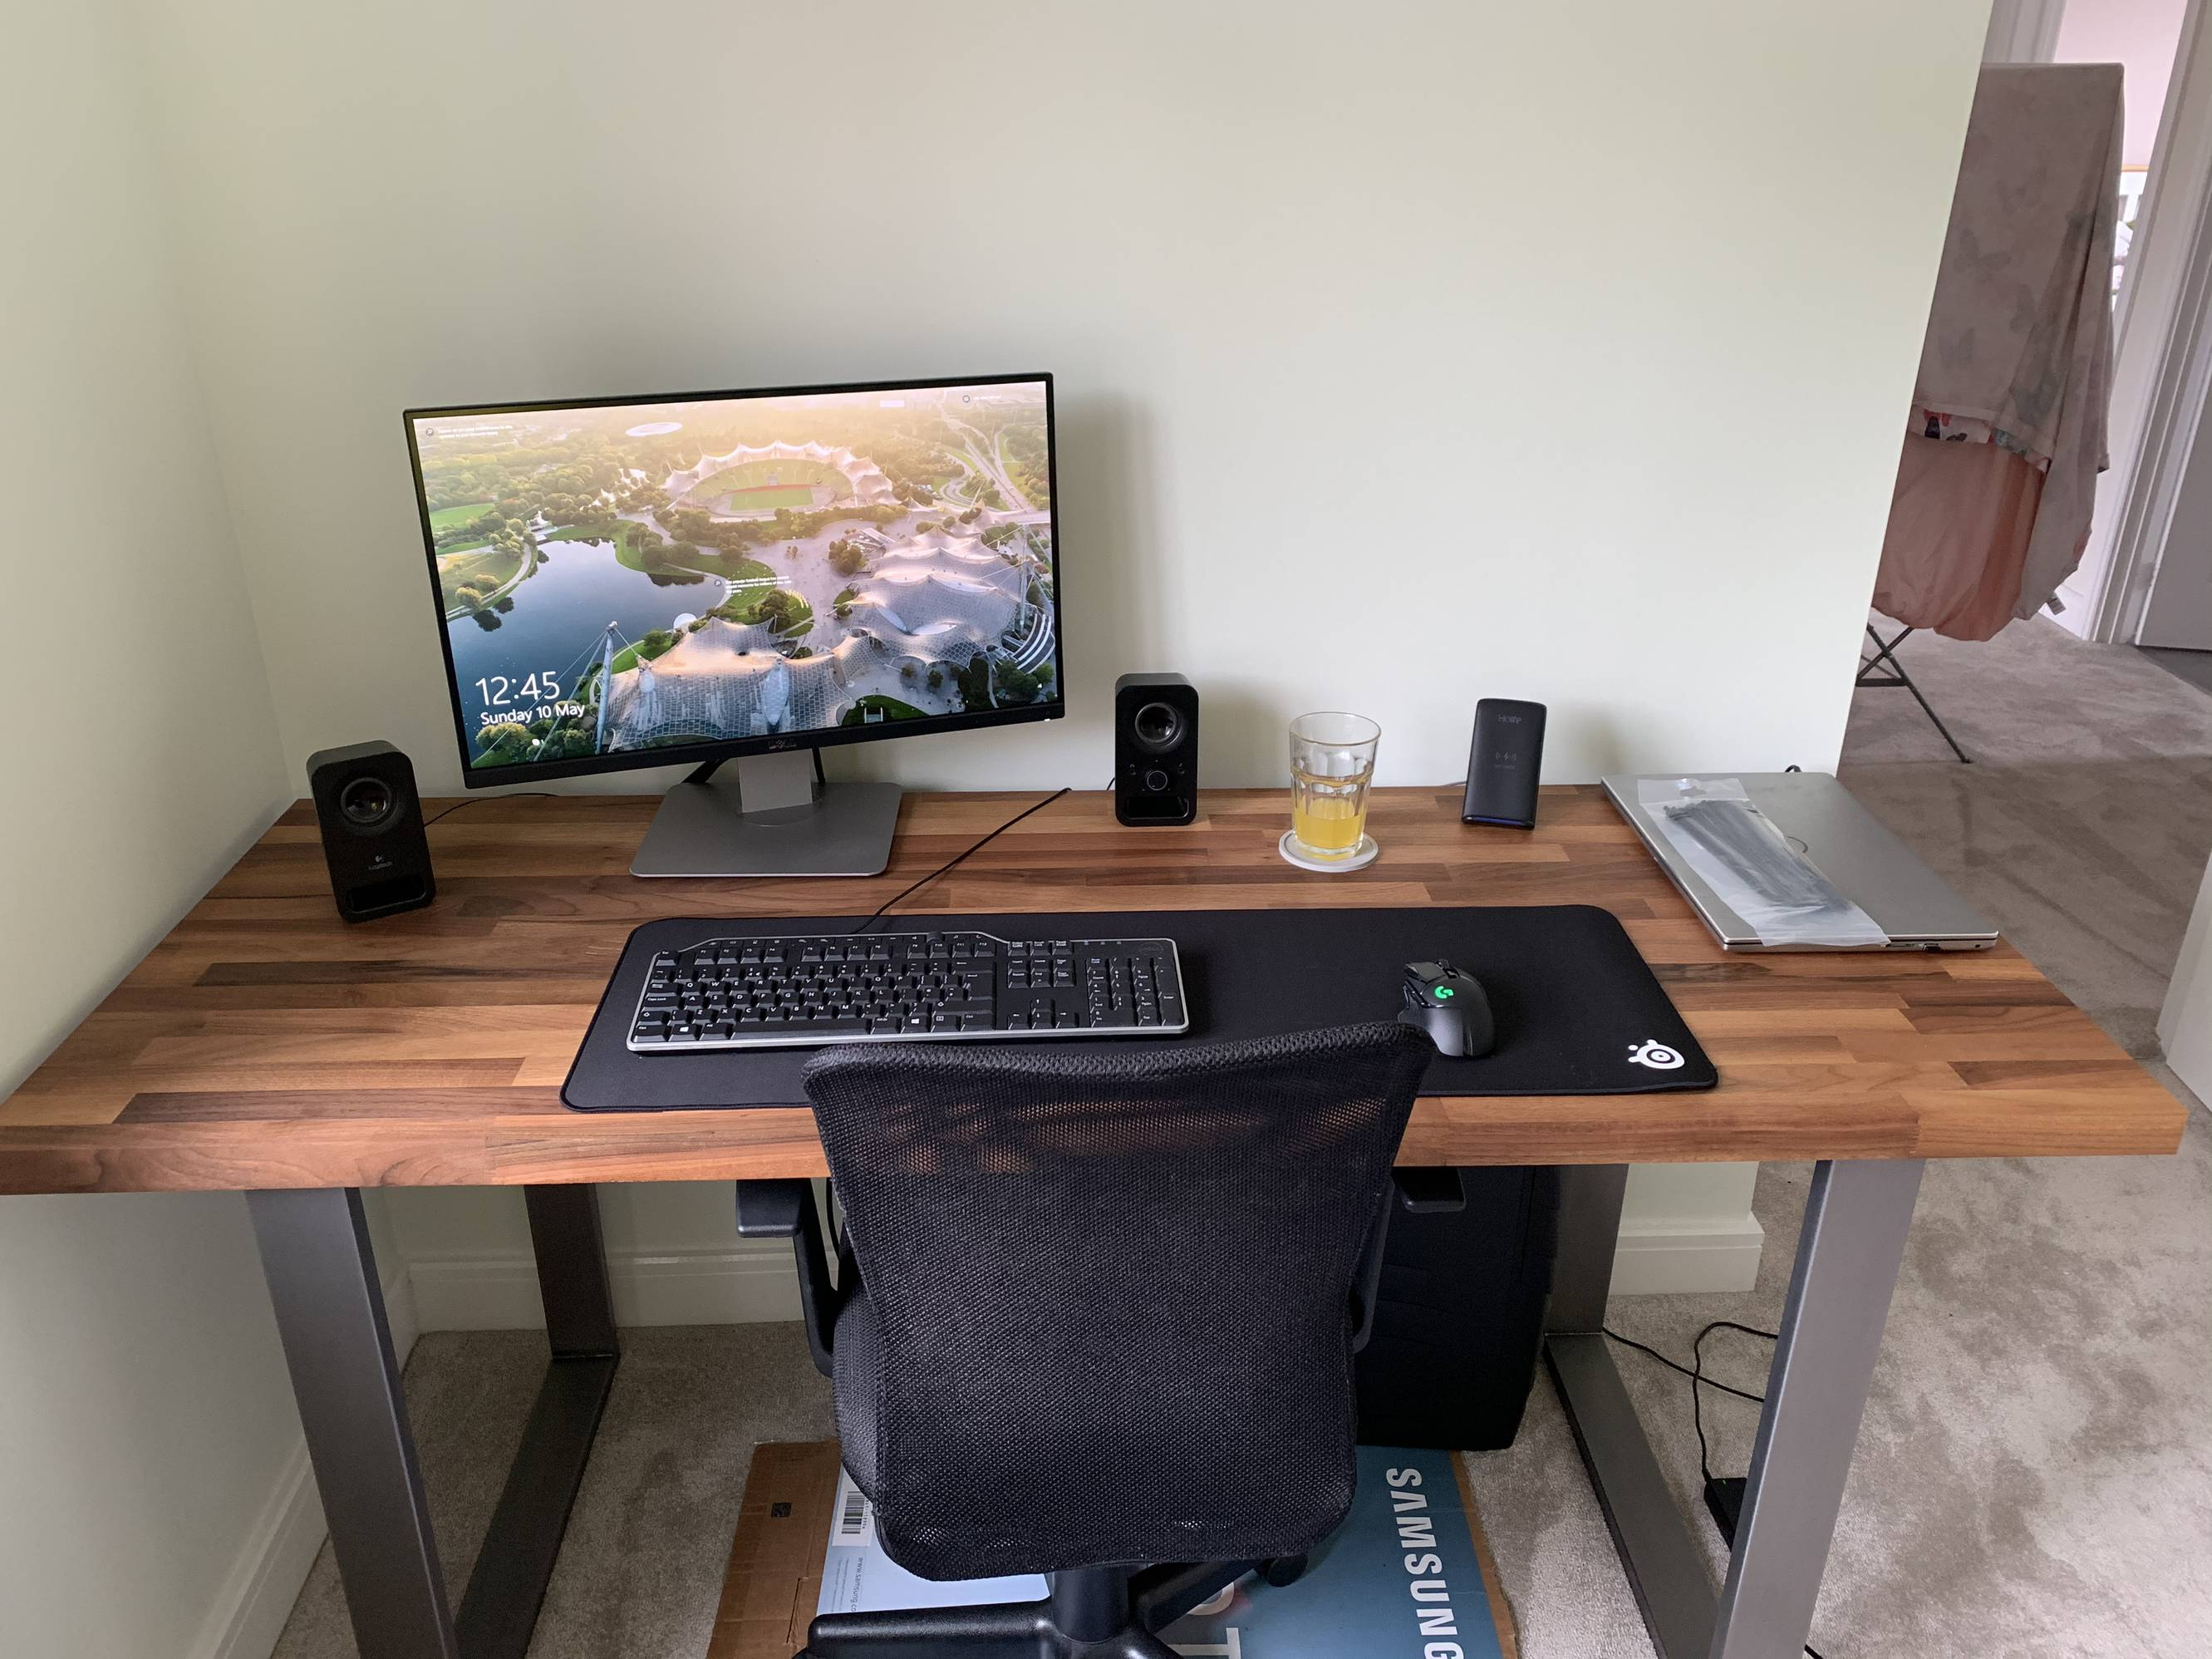Chair (Generic): (728, 1016, 1482, 1659)
Cup: (1280, 699, 1385, 854)
Desk (Generic): (0, 772, 2195, 1659)
Drink Coaster: (1258, 816, 1413, 889)
External Speakers (Subwoofers): (291, 713, 472, 939), (1103, 657, 1209, 847)
Keyboard (Gaming): (617, 918, 1235, 1060)
Laptop (Windows): (1576, 751, 2010, 986)
Monitor (Landscape): (395, 371, 1085, 871)
Mouse (Gaming): (1360, 938, 1514, 1077)
Mousepad (Gaming): (549, 885, 1740, 1121)
